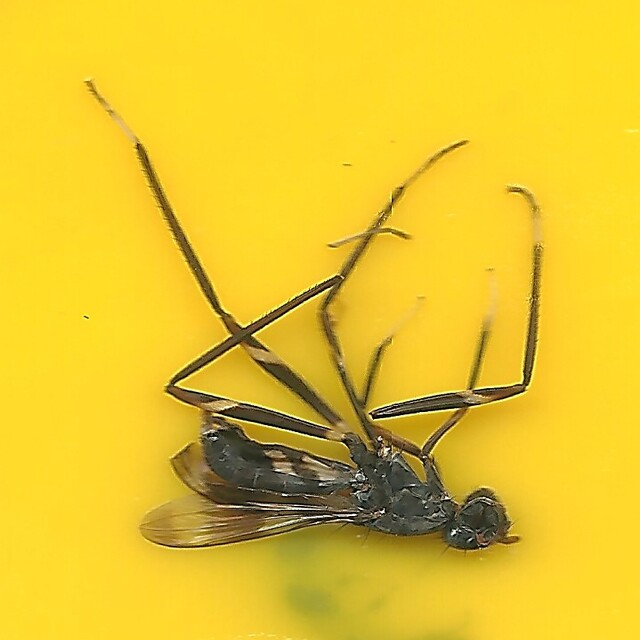Brachycera: (89, 77, 551, 563)
